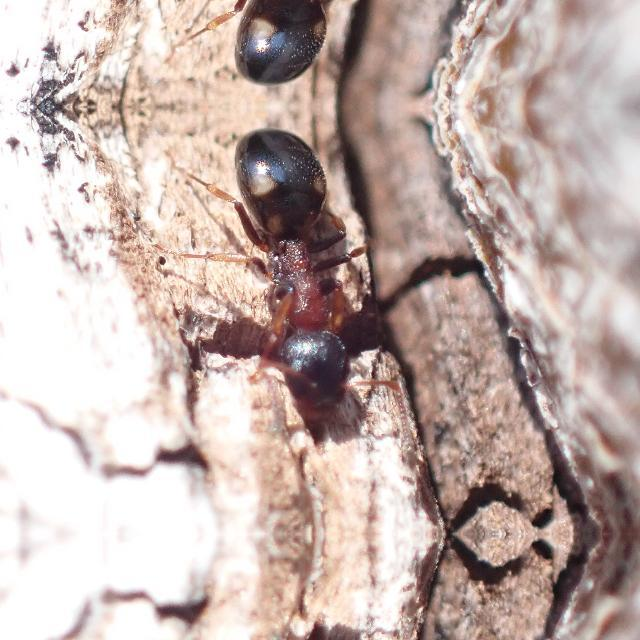Dolichoderus: (170, 109, 438, 415), (169, 0, 436, 102)
